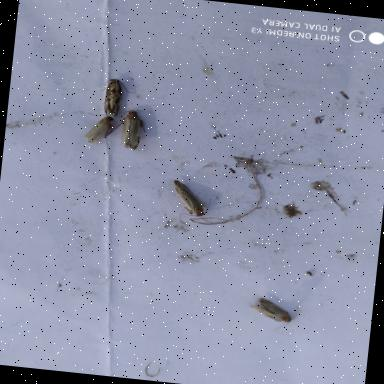pbw: (164, 178, 216, 225), (95, 72, 139, 119), (109, 108, 149, 152), (246, 296, 296, 326), (81, 113, 117, 148)
